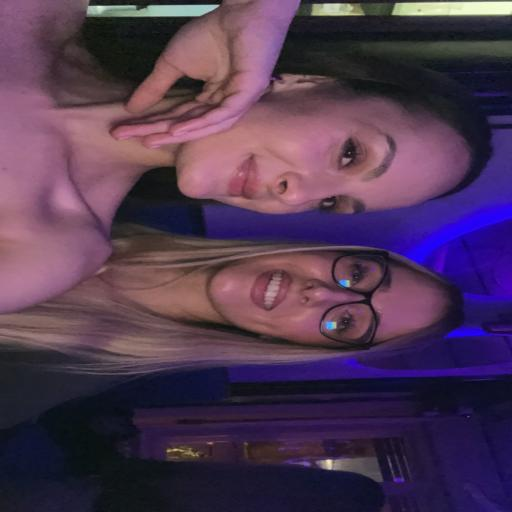marija: (175, 81, 475, 212)
